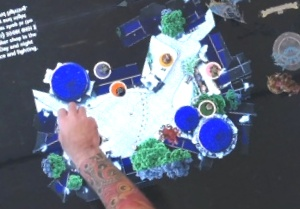green: (194, 96, 217, 119)
orange: (105, 77, 128, 99)
pink: (201, 58, 224, 82)
violet: (89, 57, 116, 81)
yellow: (155, 48, 177, 71)
